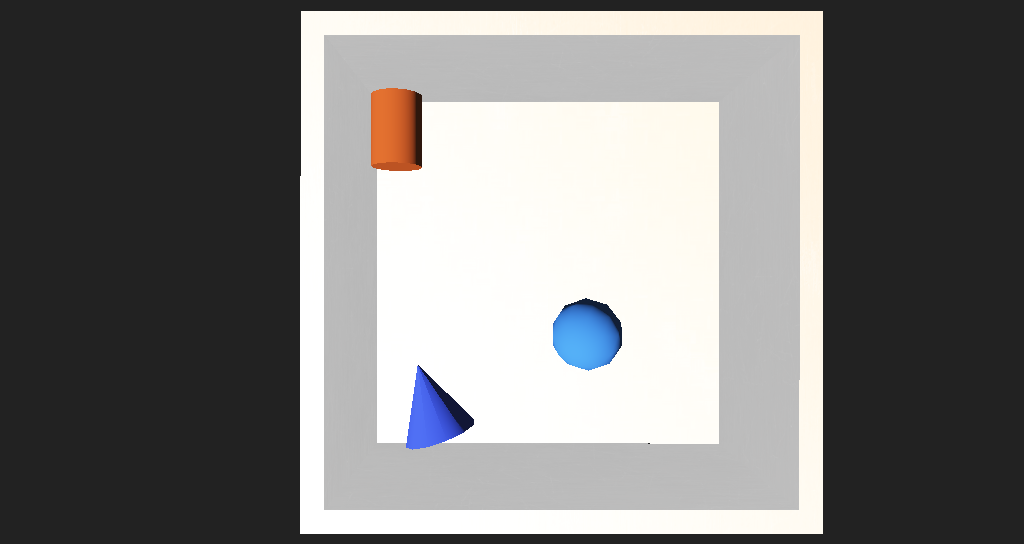cone: (344, 155, 397, 208)
cylinder: (347, 315, 448, 382)
sphere: (505, 282, 573, 329)
